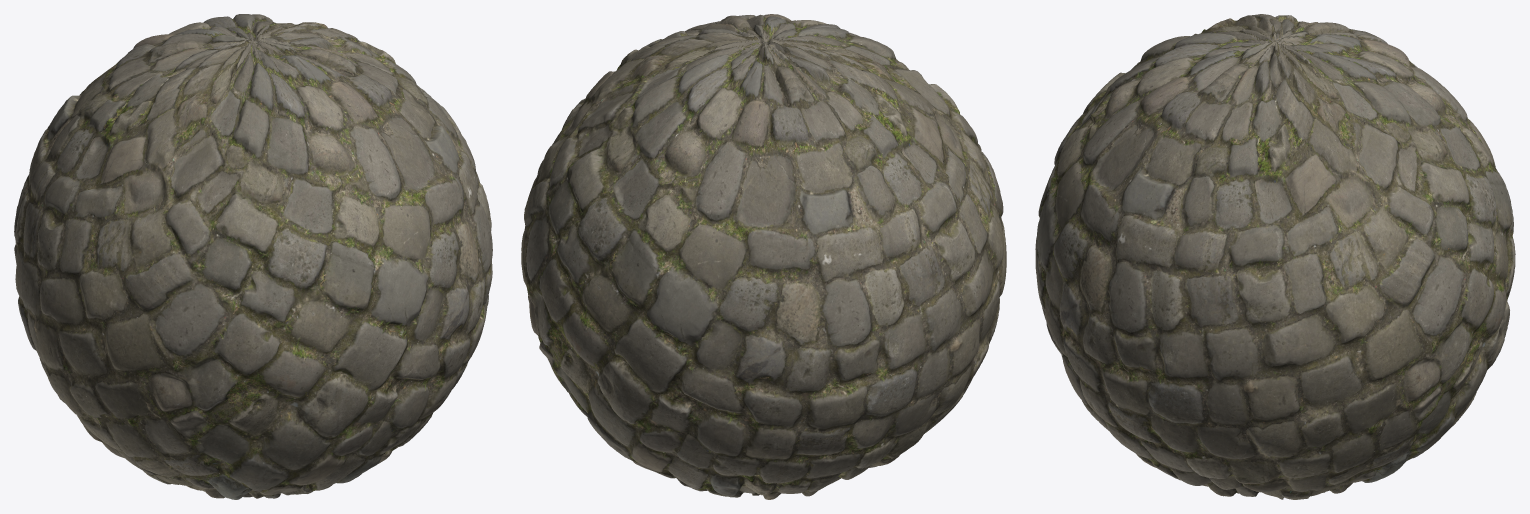
File: floor_pattern_01_4k.gltf
The picture shows the model from 3 angles, left to right: view 1: azimuth 30°, elevation 25°; view 2: azimuth 150°, elevation 25°; view 3: azimuth 270°, elevation 25°; orthographic projection.
Parts seen in each view (by area): view 1: sphere_gltf; view 2: sphere_gltf; view 3: sphere_gltf.
Boxes of the visible parts, box(x1,y1,x2,y2) form: sphere_gltf: box(14, 14, 492, 499); sphere_gltf: box(521, 14, 1006, 499); sphere_gltf: box(1035, 14, 1515, 499).
Size of the model in its own units: 1.24 by 1.24 by 1.21.
1 material, 1 textured.
